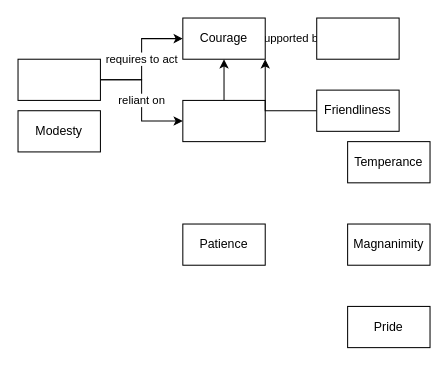
Image size: 448x366. Some labels were removed from this diagram. The shapes that lost their labels are listed below. From the top down, each one's centre as x and y in pixels, then its label:
At (357,38): "Amicability".
At (58,79): "Justice".
At (223,120): "Truthfulness".
